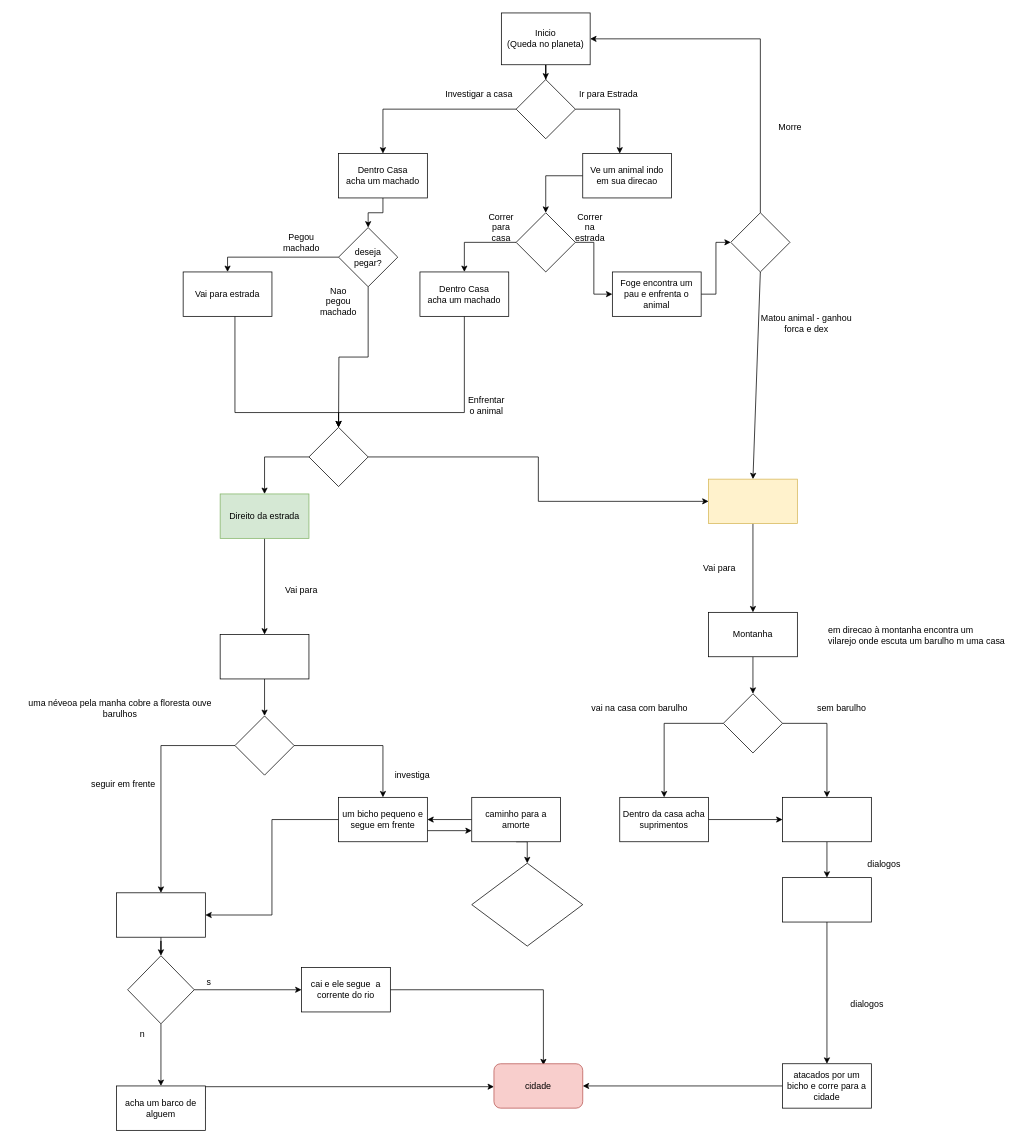
Some shapes in this 1024 by 1143 pixel diagram are drawn without their labels. Here are the shapes that lost their labels. From the top down, the box of each, then its label:
(730, 212, 790, 272): luta
(708, 478, 797, 524): Esquerda da estrada
(219, 634, 309, 679): Floresta
(782, 797, 871, 842): Acha um corpo e é atacado pelo povo da montanha
(116, 892, 205, 937): acha um rio
(471, 862, 583, 946): morre ou nao de acordo com as skills
(782, 877, 871, 922): escapa e encontra um homem numa carruagem
(127, 955, 194, 1024): tenta atrabessar
